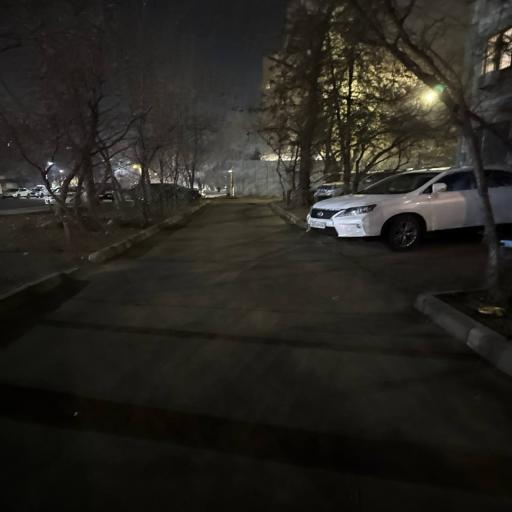bottle: (307, 166, 484, 251), (484, 164, 511, 224)
construction_fence: (0, 199, 208, 334), (408, 289, 511, 389)
shelf: (0, 203, 511, 512)
